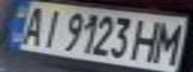1: (78, 10, 100, 55)
2: (93, 11, 118, 57)
3: (112, 14, 136, 61)
9: (57, 8, 84, 52)
A: (15, 3, 51, 46)
H: (130, 17, 166, 63)
I: (36, 6, 66, 48)
M: (151, 19, 190, 64)
